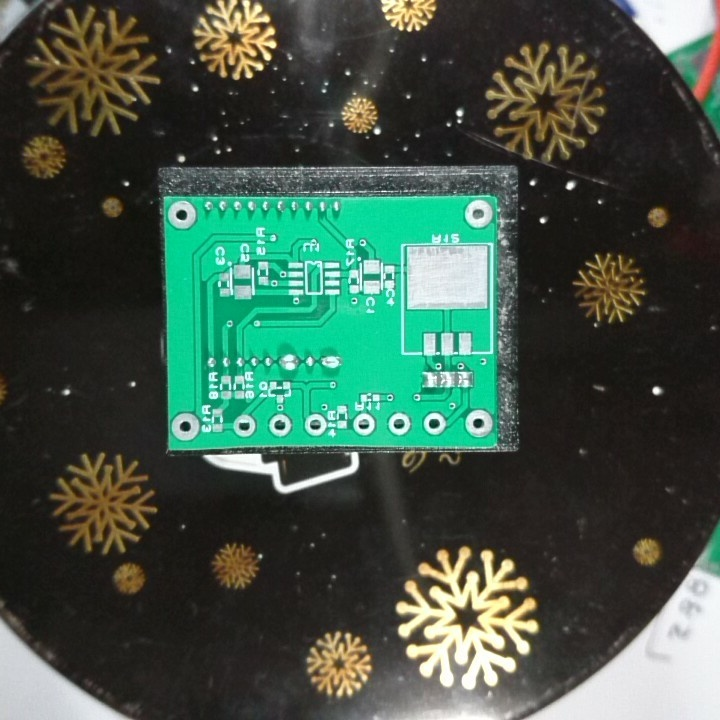F: (167, 197, 198, 232), (462, 198, 494, 230), (169, 411, 200, 442), (464, 408, 495, 438), (350, 411, 379, 437), (386, 412, 414, 438), (302, 412, 328, 438), (267, 412, 293, 438), (231, 413, 258, 438), (422, 412, 448, 436)
P: (317, 352, 345, 372), (276, 352, 300, 374)
